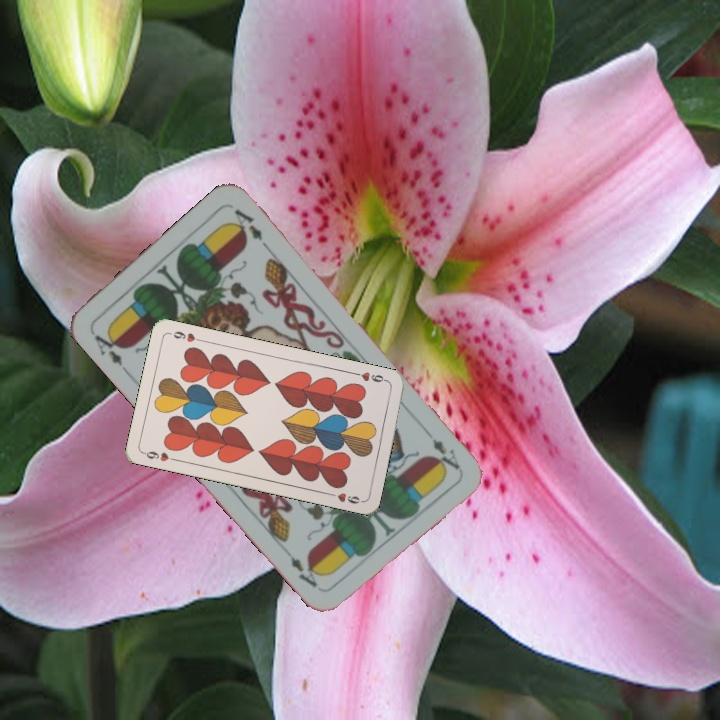EA: (419, 423, 463, 473), (90, 325, 129, 377)
H9: (139, 447, 180, 464), (350, 368, 390, 385)
